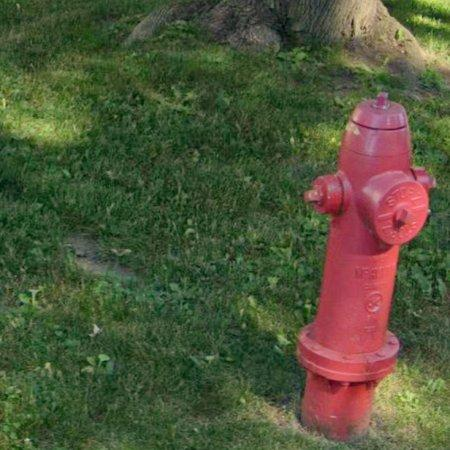a fire hydrant: (299, 93, 436, 441)
